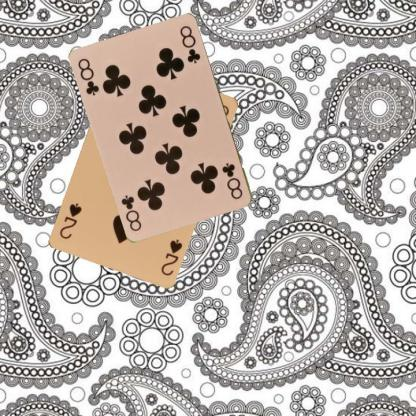2s: (158, 236, 184, 277)
8c: (76, 56, 101, 97), (220, 160, 244, 201)
